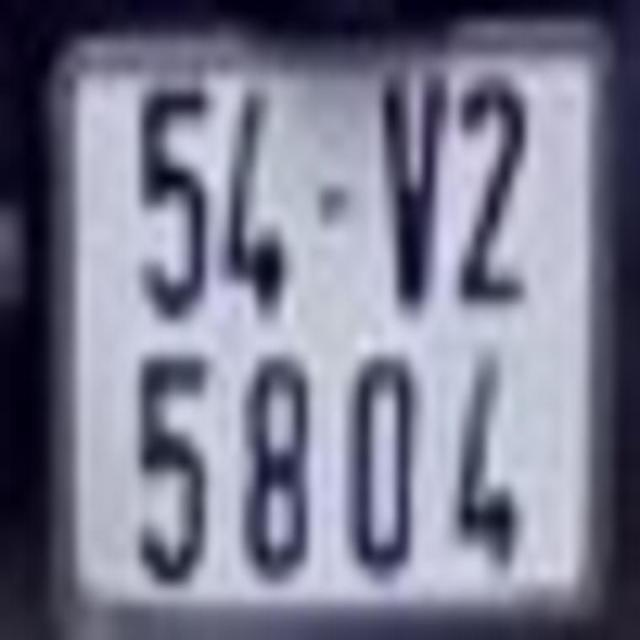0: (354, 353, 414, 577)
2: (460, 80, 534, 297)
4: (449, 353, 523, 562), (226, 90, 290, 325)
5: (136, 352, 213, 597), (140, 74, 210, 301)
8: (244, 348, 311, 575)
V: (374, 63, 440, 314)
